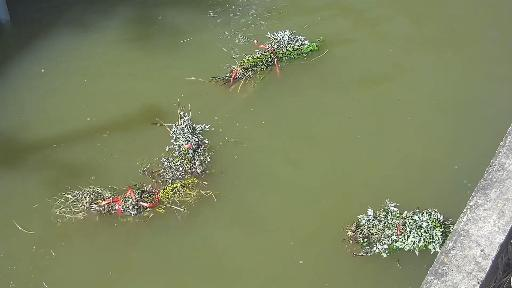twig: (200, 18, 346, 89), (41, 186, 251, 224), (332, 204, 473, 254), (150, 109, 221, 185)
